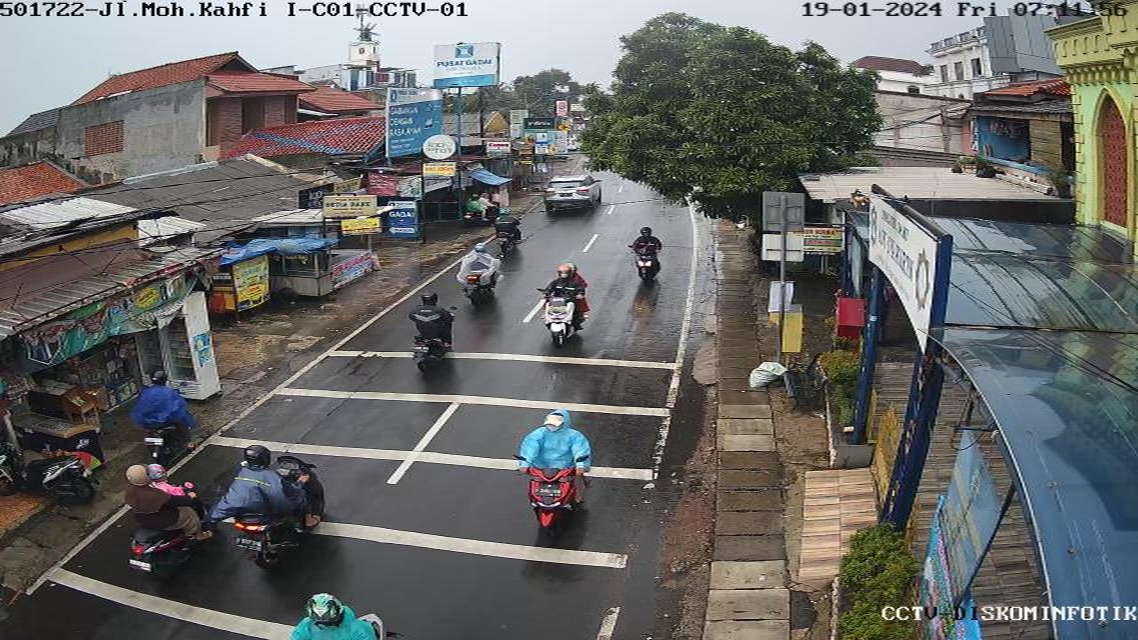Gerobak: (265, 230, 333, 313), (210, 241, 279, 313)
